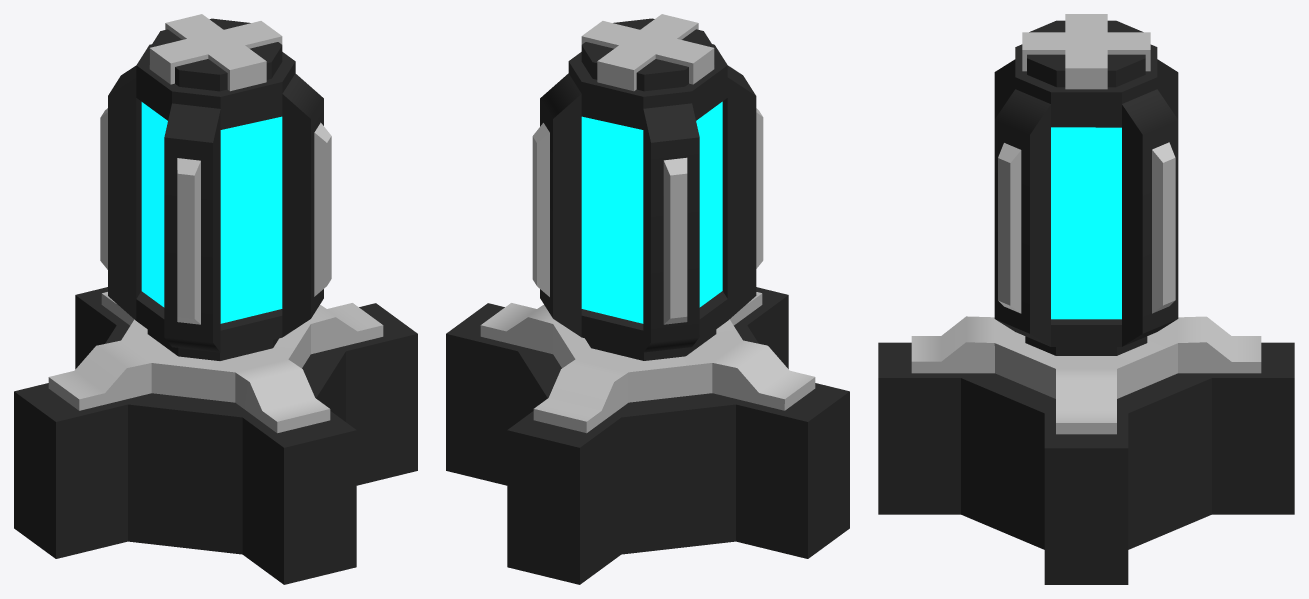
The model's file is PowerPylon.fbx.
3 views of the same model, side by side, from view 1: azimuth 30°, elevation 25°; view 2: azimuth 150°, elevation 25°; view 3: azimuth 270°, elevation 25° (orthographic).
Visible parts, largest first — view 1: PowerPylon; view 2: PowerPylon; view 3: PowerPylon.
Boxes of the visible parts, <box> form: PowerPylon: <box>14,14,417,584</box>; PowerPylon: <box>446,14,849,584</box>; PowerPylon: <box>878,14,1294,584</box>.
Size of the model in its own units: 2.41 by 2.91 by 2.41.
